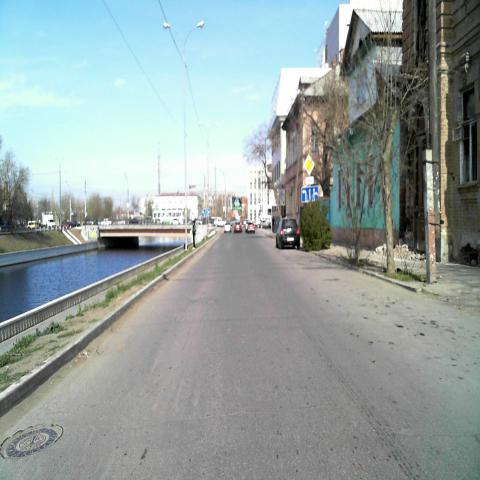2_2: (302, 153, 314, 175)
